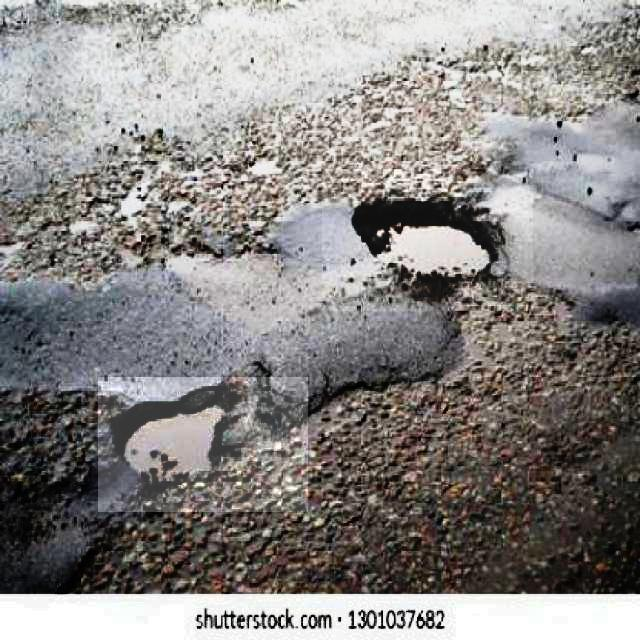pothole: (322, 169, 533, 311), (98, 377, 308, 512)
